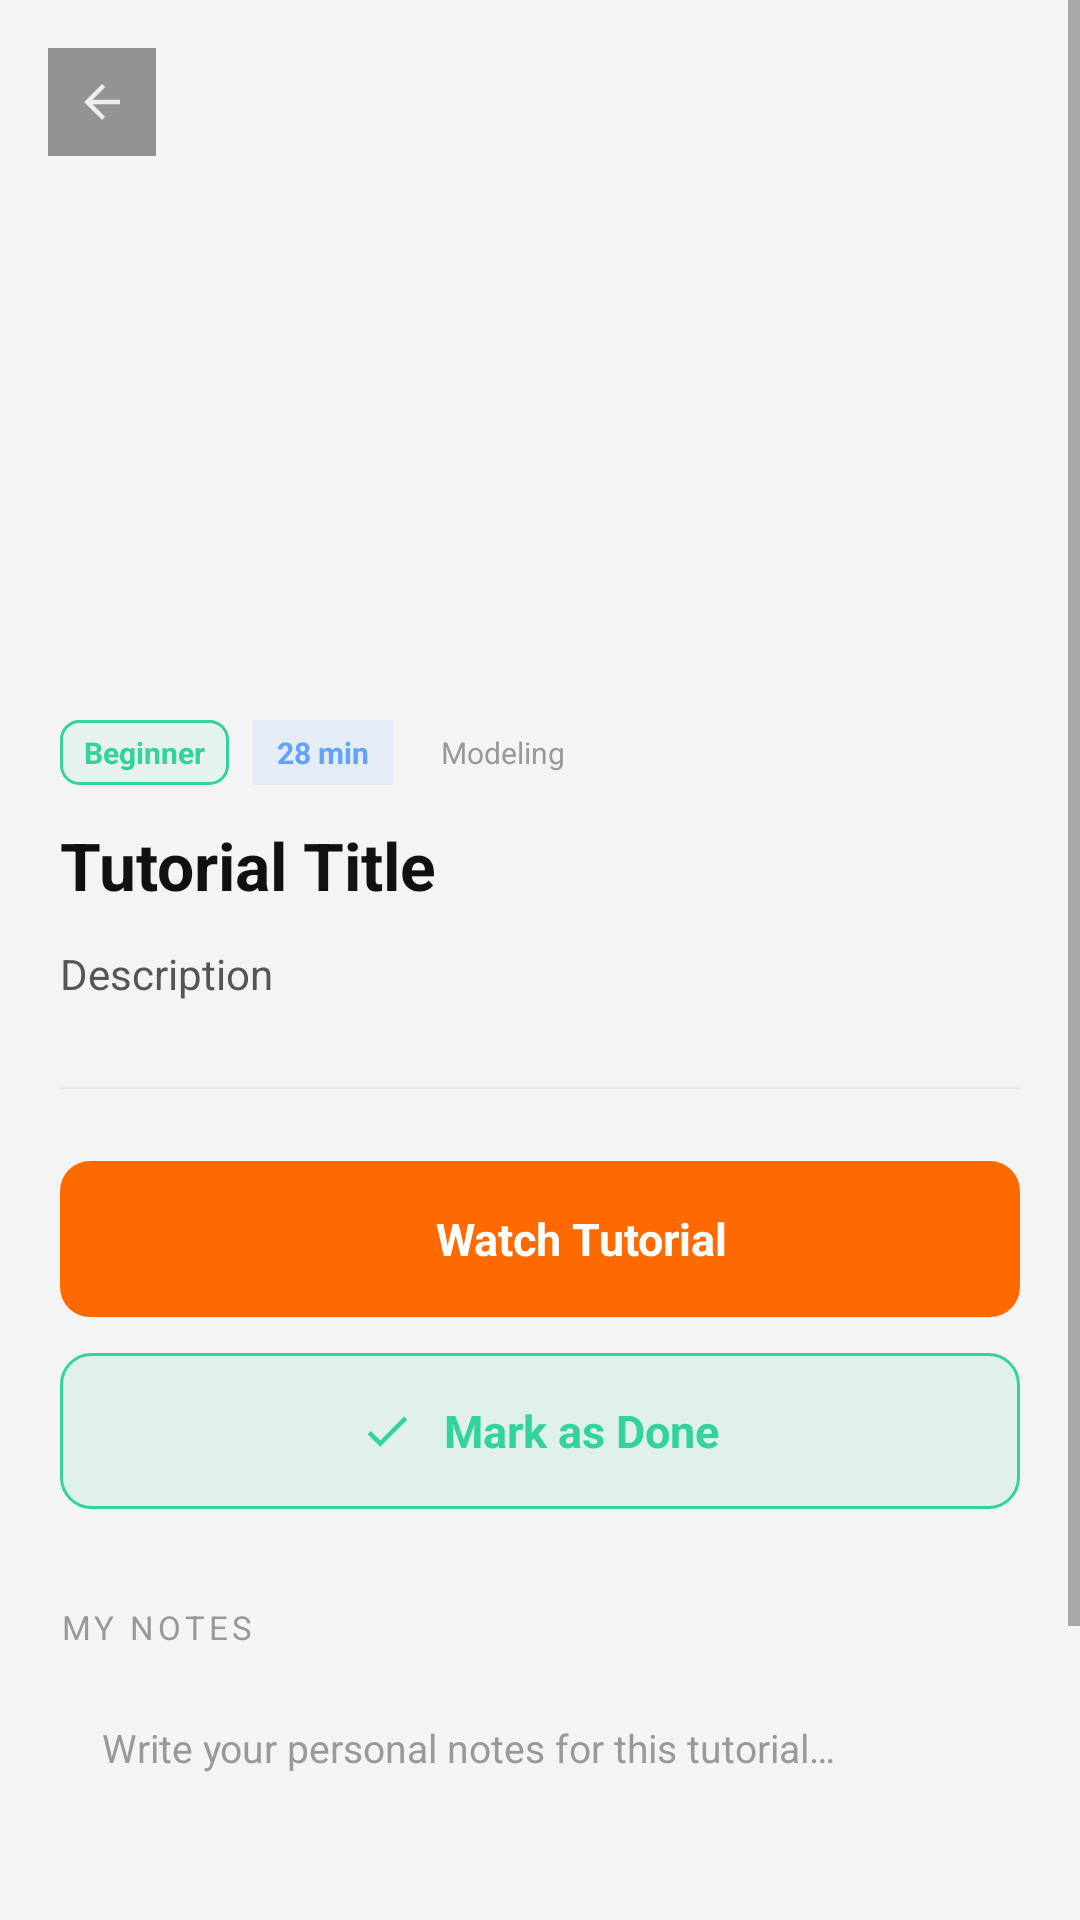

Where to tap for icons on this 1080x1920 app screen, as point (x, y):
back: point (102, 102)
check: point (387, 1431)
